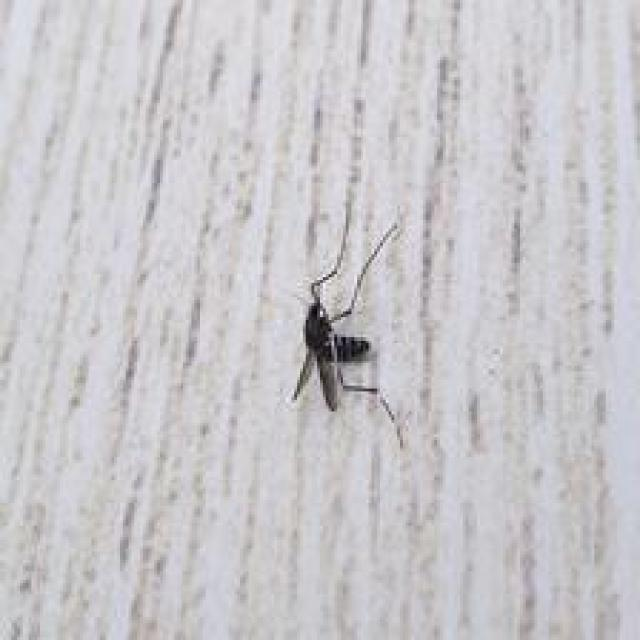Aedes albopictus: (288, 197, 406, 449)
